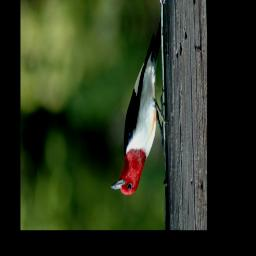Woodpecker: (109, 13, 172, 196)
